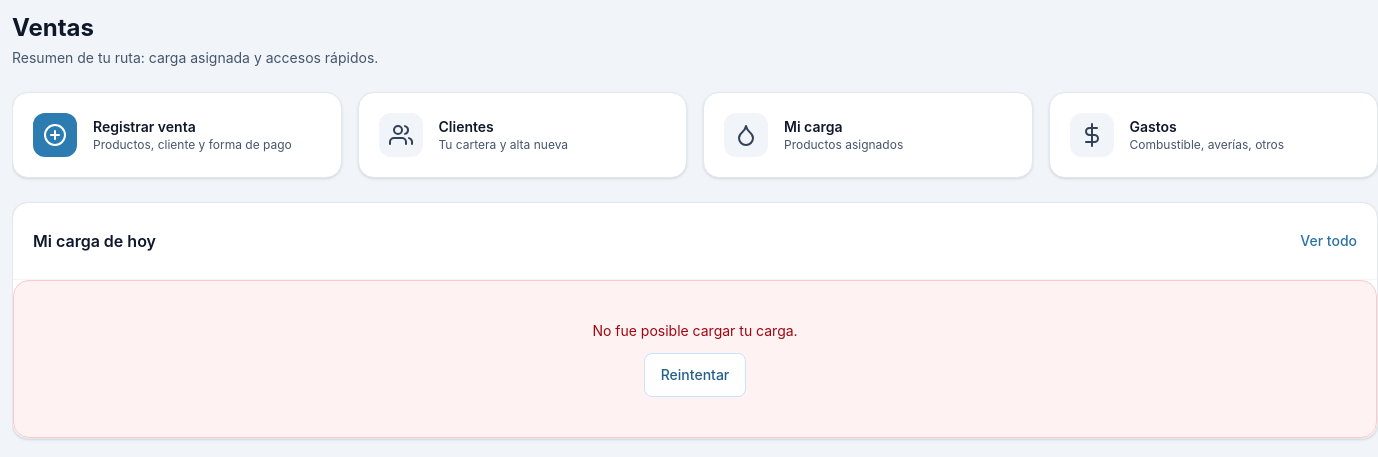
Scenario: UX-15 · copy por rol › Ventas: error con Reintentar que vuelve a leer
The width and height of the screenshot is (1378, 457).
Expected: the message shows "No fue posible cargar tu carga.", [592,322,798,339]
Click the button "Reintentar" at (695, 375), box [644,353,746,397]
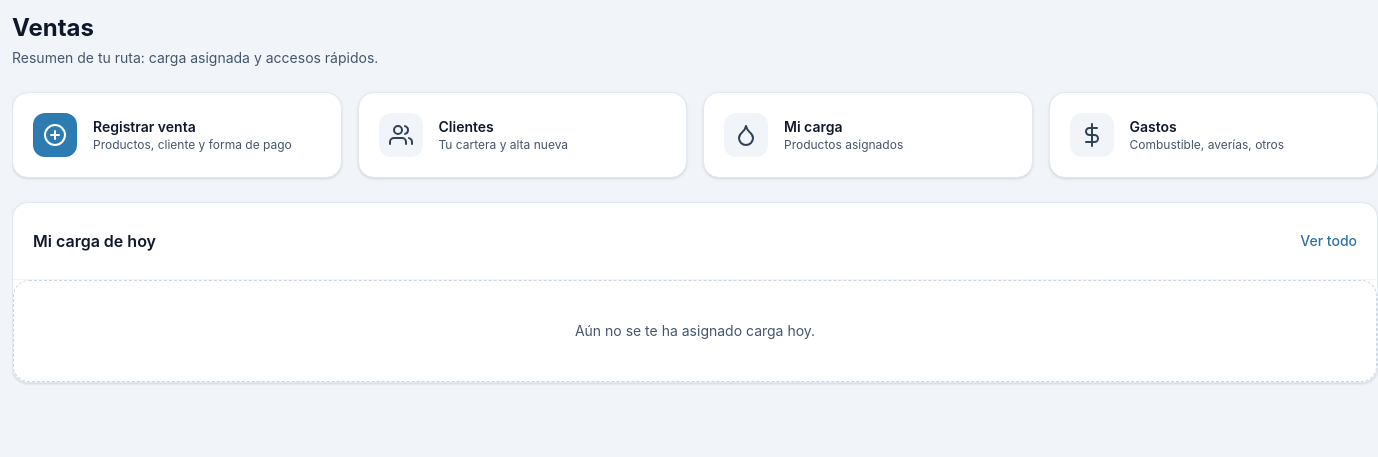
Expected: the text "Aún no se te ha asignado carga hoy." is shown, [575,321,815,341]
